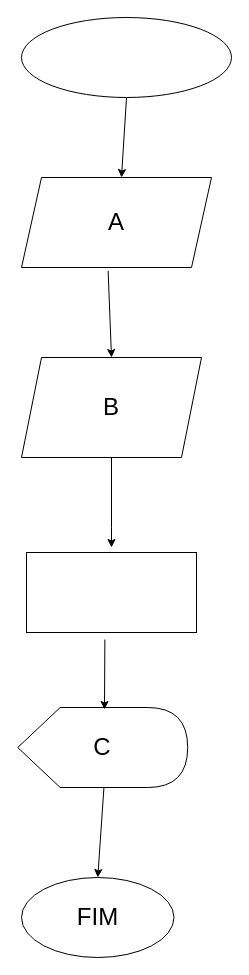
Image size: 249x975. Some labels were removed from this diagram. The centre of each missing label's shape, as x and y in pixels:
"C= A + B" goes at (111,592).
"INICIO" goes at (126,57).
